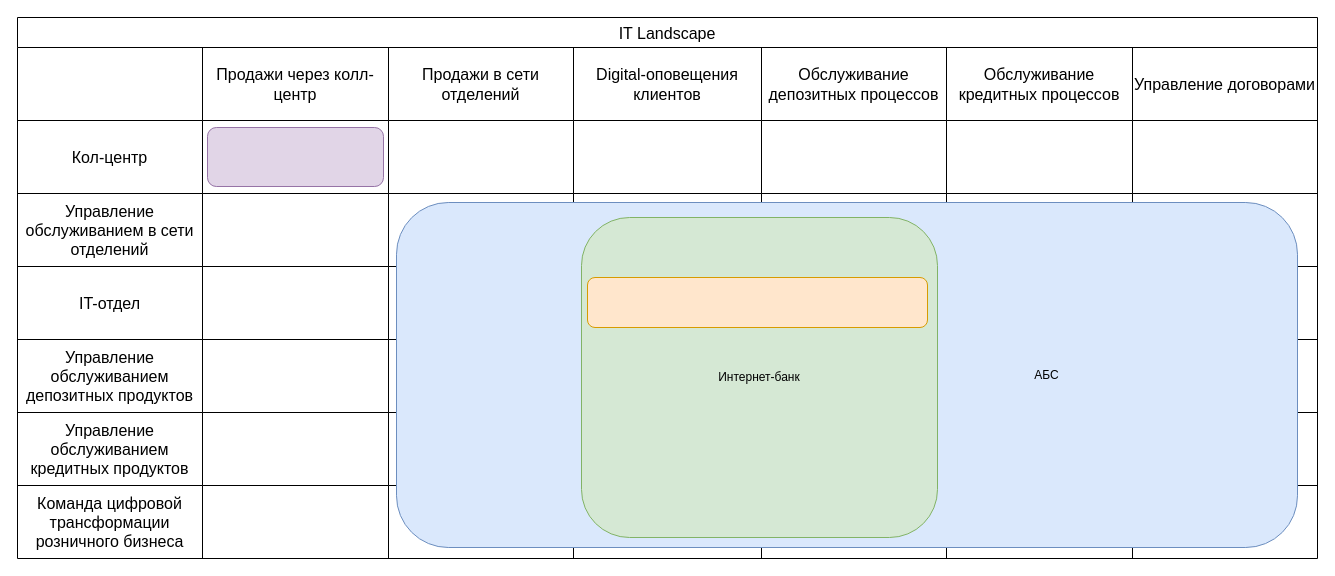
Some shapes in this 1335 by 576 pixel diagram are drawn without their labels. The centre of each missing label's shape, as x and y in pixels:
"Система колл-центра" goes at (295,156).
"СМС-шлюз телеком-оператора" goes at (757,302).
